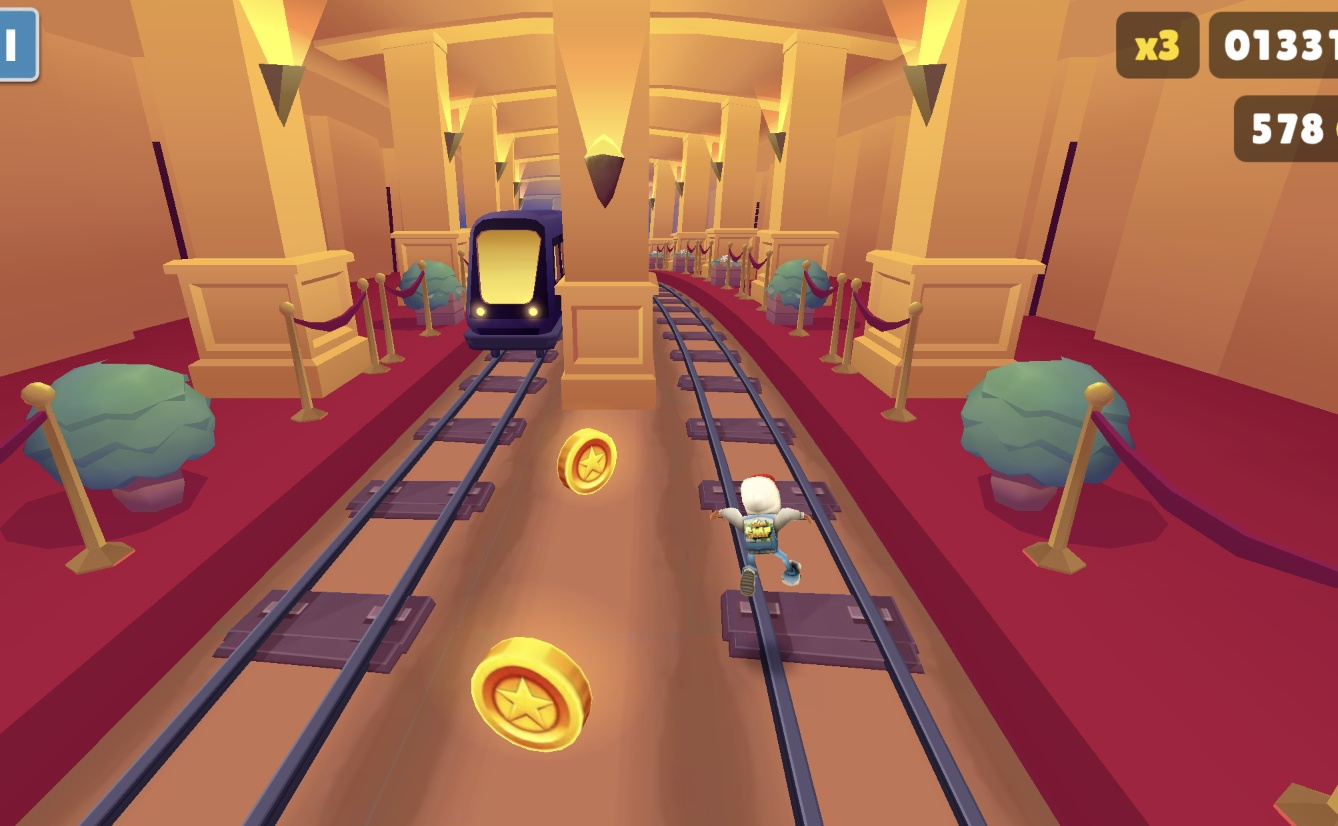pillar: (547, 0, 657, 422)
train: (469, 205, 564, 352)
